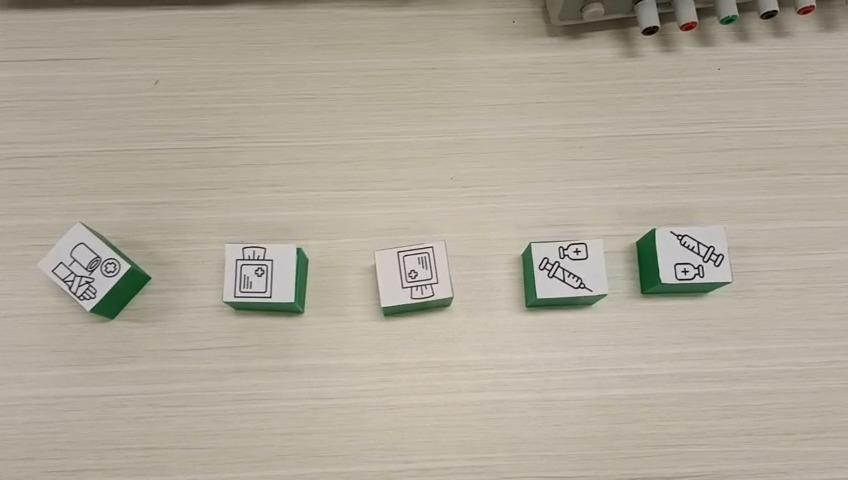Bandages: (34, 220, 150, 319)
Gauze: (373, 239, 455, 317), (221, 244, 308, 314)
antiseptic cream: (634, 224, 732, 295), (520, 237, 610, 308)
